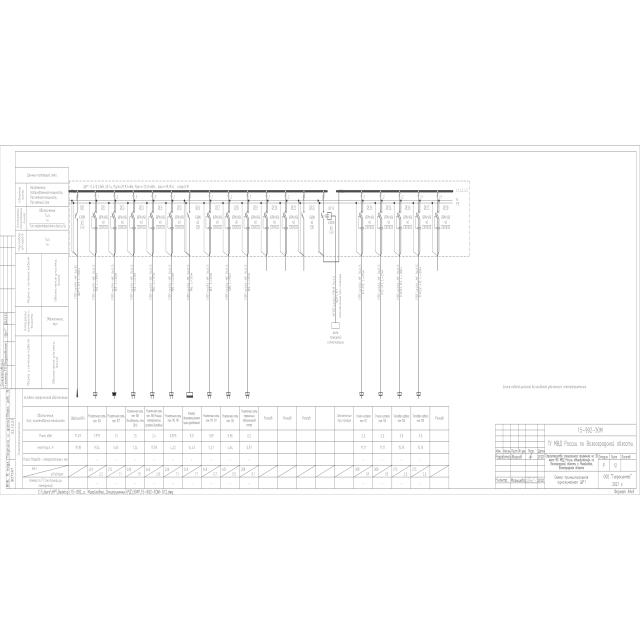-: (136, 215, 146, 230), (422, 215, 432, 230), (155, 215, 165, 230), (98, 215, 108, 230), (232, 214, 241, 230), (78, 214, 87, 230), (213, 214, 222, 230), (194, 214, 202, 231), (289, 215, 298, 230), (403, 215, 412, 230), (441, 215, 450, 230), (118, 215, 127, 230), (365, 215, 374, 230), (251, 215, 260, 230), (384, 215, 393, 230), (175, 215, 184, 230), (270, 215, 279, 230), (309, 215, 316, 231), (328, 220, 334, 234), (83, 184, 90, 190)
QF: (301, 193, 306, 221), (321, 193, 325, 220), (187, 193, 191, 220), (75, 193, 79, 220)
QFD: (395, 192, 403, 230), (357, 192, 365, 230), (281, 192, 289, 230), (243, 192, 251, 230), (205, 192, 213, 230), (433, 193, 441, 230), (262, 193, 270, 230), (110, 192, 117, 230), (91, 192, 98, 230), (415, 192, 422, 229), (377, 193, 384, 230), (224, 192, 231, 229), (167, 192, 174, 229), (148, 193, 155, 230), (129, 193, 136, 230)
U-: (326, 212, 330, 220)
